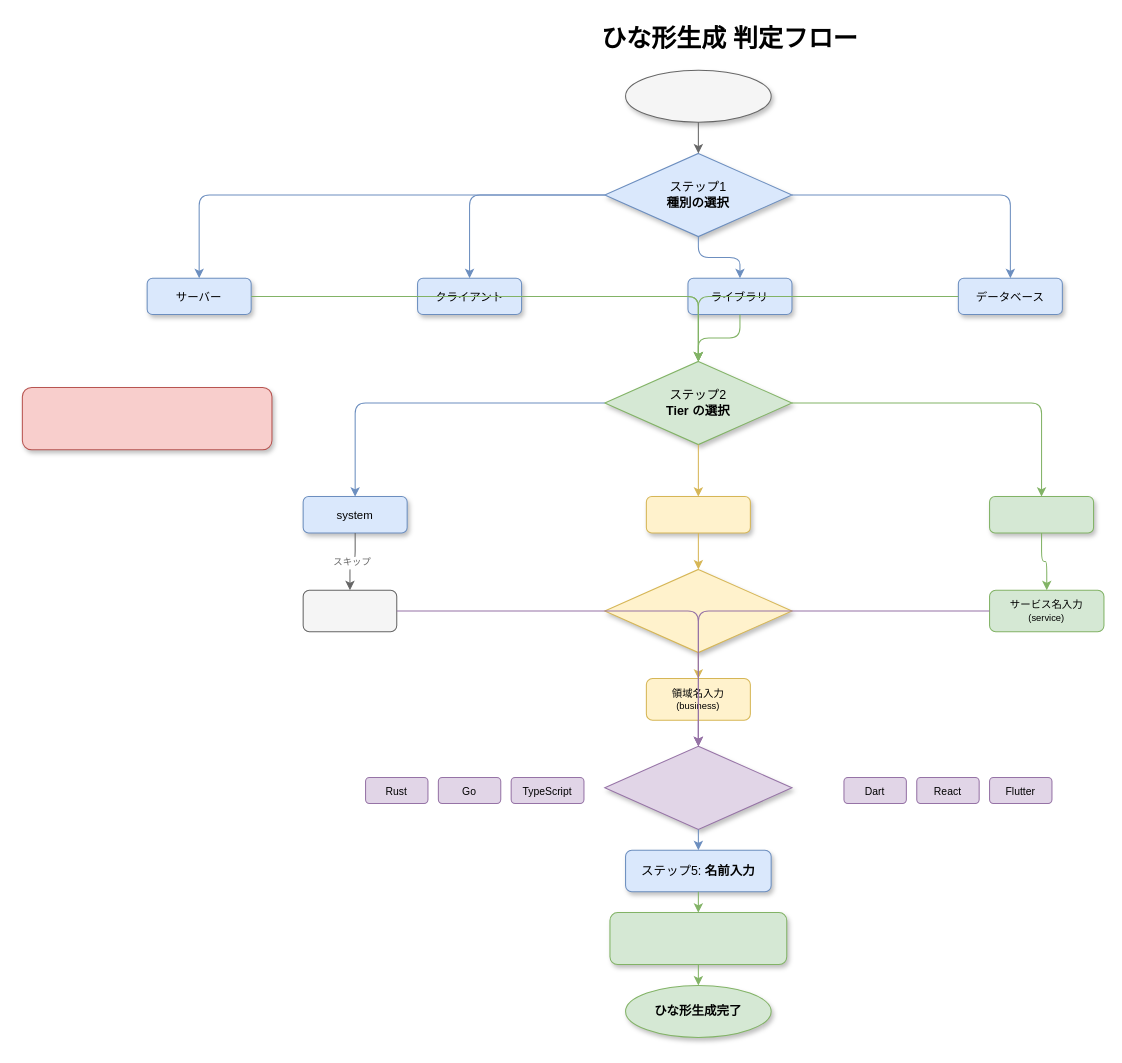
Some shapes in this 1122 by 1063 pixel diagram are drawn without their labels. The shapes that lost their labels are listed below. From the top down, each one's centre as x and y in pixels, then its label:
(698,97): k1s0 generate
(147,419): 種別により選択可能な Tier が制限される クライアント: business, service のみ ライブラリ: system, business のみ
(699,515): business
(1042,515): service
(349,610): スキップ (system)
(699,612): ステップ3 配置先の指定
(699,789): ステップ4 言語の選択
(699,939): ステップ6: 確認 設定内容を表示して Y/N
